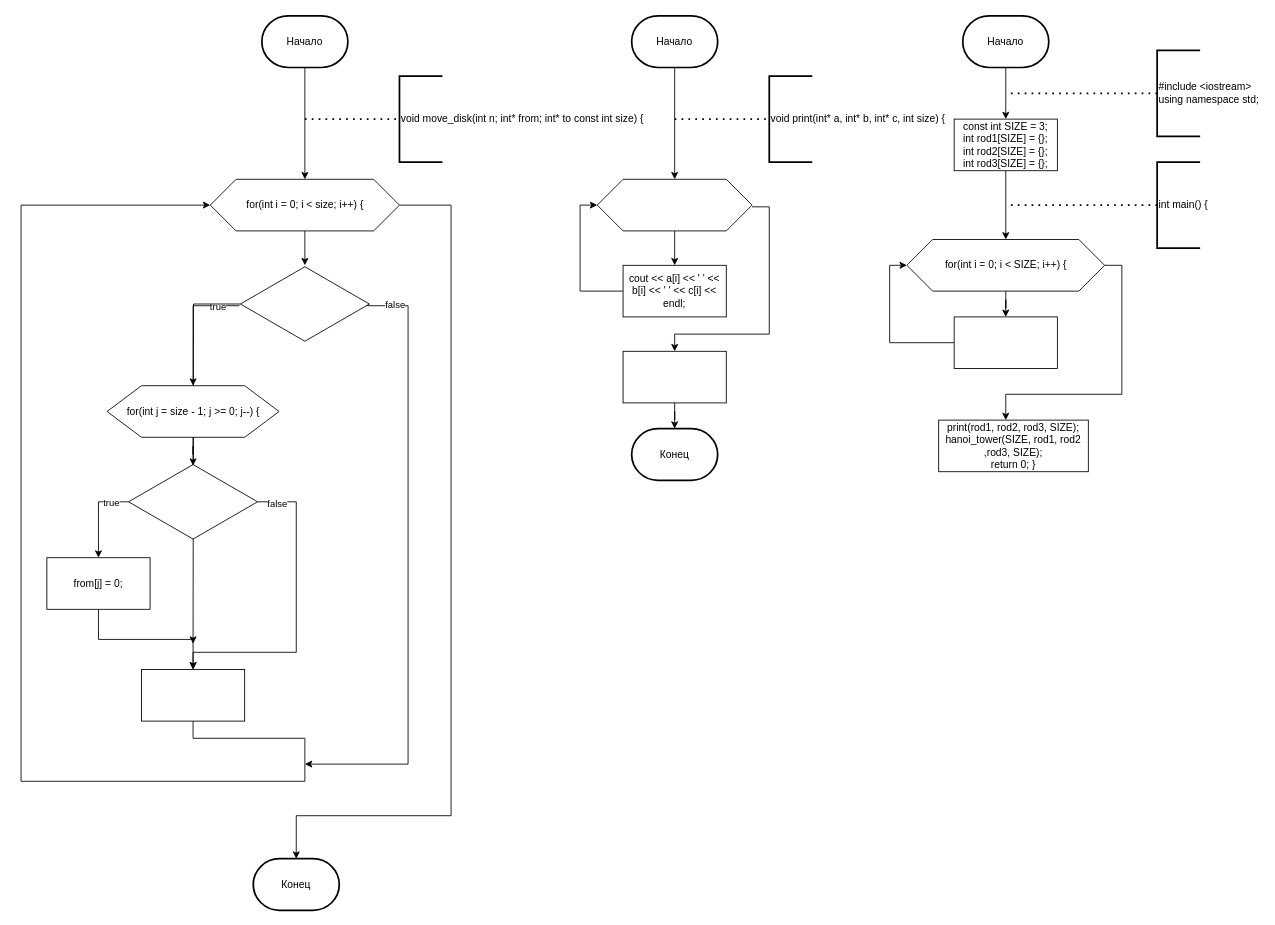
Image size: 1275x925. Some labels were removed from this diagram. The box of each missing label's shape, as (x1, y1, x2, y2) in pixels:
cout << endl;: (622, 350, 726, 403)
for(int i = size - 1; i >= 0; i--) {: (596, 178, 752, 231)
if(from[j] == n + 1): (128, 462, 258, 541)
if(to[i] == 0): (240, 264, 369, 343)
print(rod1, rod2, rod3, size); break;: (141, 669, 245, 721)
rod1[i] = SIZE - i;: (953, 316, 1057, 369)
